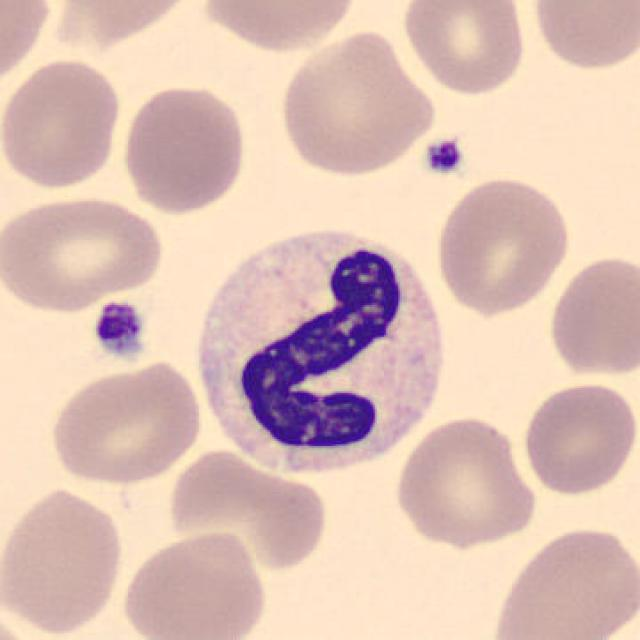Neutrophil: (187, 214, 455, 488)
Platelets: (89, 298, 149, 361), (420, 136, 468, 180)
RBC: (274, 27, 439, 178), (163, 446, 329, 575), (0, 192, 169, 316), (391, 413, 541, 550), (432, 173, 574, 317), (45, 359, 206, 486), (1, 485, 130, 638), (117, 81, 249, 217), (487, 522, 638, 640), (117, 527, 270, 640), (0, 54, 124, 192), (519, 377, 638, 497), (398, 0, 530, 97), (544, 248, 640, 380), (196, 0, 364, 55), (524, 0, 640, 74), (42, 0, 199, 49), (0, 0, 55, 93)
